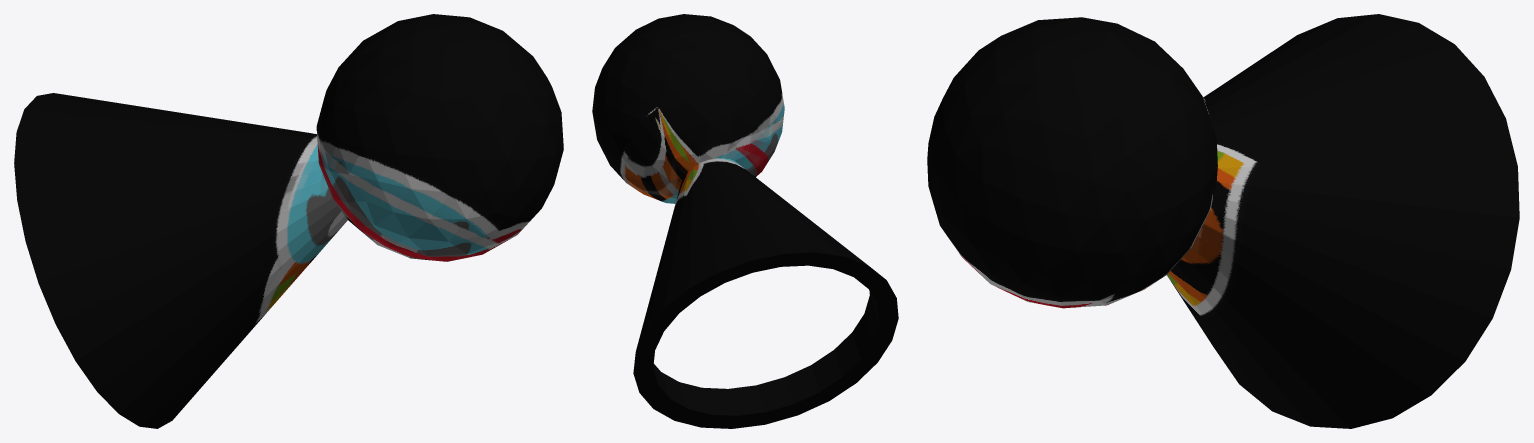
File: airhorn.glb
3 renders of one model, left to right at view 1: azimuth 30°, elevation 25°; view 2: azimuth 150°, elevation 25°; view 3: azimuth 270°, elevation 25°, orthographic. The views are drawn at different scales.
Parts seen in each view (by area): view 1: mesh_id7; view 2: mesh_id7; view 3: mesh_id7.
Part boxes in pixels (x1,y1,x2,y2): mesh_id7: [14, 14, 563, 428]; mesh_id7: [592, 14, 898, 428]; mesh_id7: [927, 14, 1519, 428].
Bounding box in the file's own units: 0.7556 × 0.673 × 0.7421.
1 material, 1 textured.
